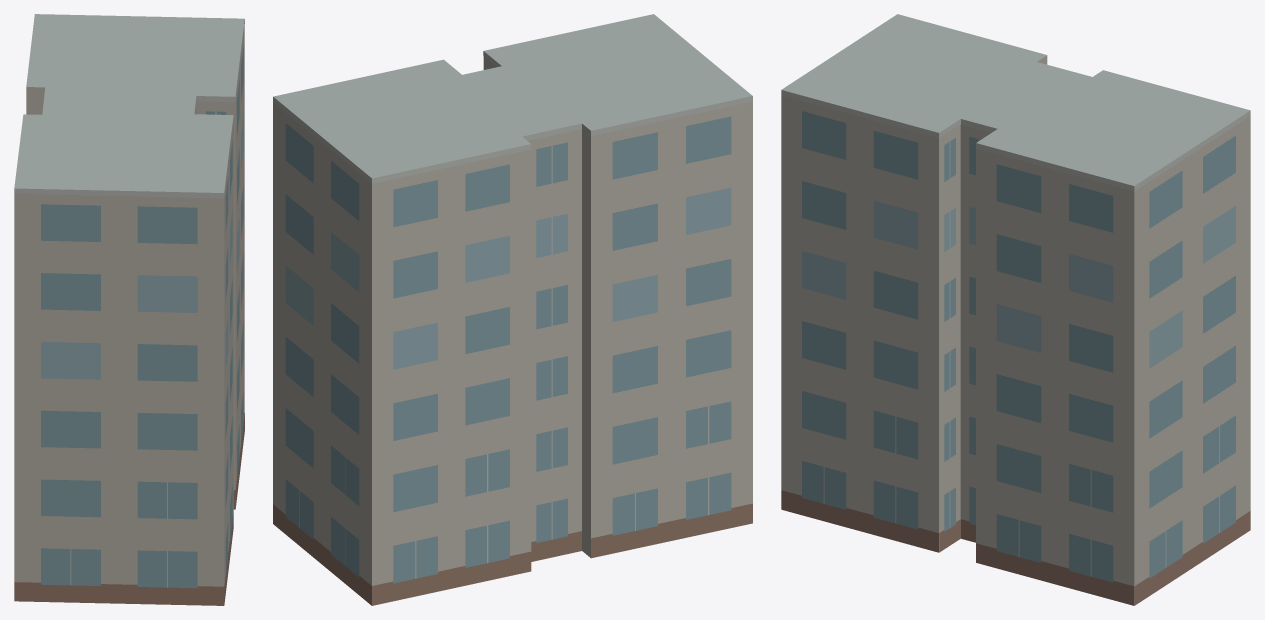
Rendered from survey-upis-32671357.glb.
3 views of the same model, side by side, from view 1: azimuth 30°, elevation 25°; view 2: azimuth 150°, elevation 25°; view 3: azimuth 270°, elevation 25° (orthographic). The views are drawn at different scales.
Parts seen in each view (by area): view 1: survey-upis-32671357.tmp; view 2: survey-upis-32671357.tmp; view 3: survey-upis-32671357.tmp.
Boxes of the visible parts, box(x1,y1,x2,y2) form: survey-upis-32671357.tmp: box(14, 14, 244, 605); survey-upis-32671357.tmp: box(273, 14, 752, 605); survey-upis-32671357.tmp: box(781, 14, 1250, 605).
Bounding box in the file's own units: 16.89 × 19.2 × 19.47.
